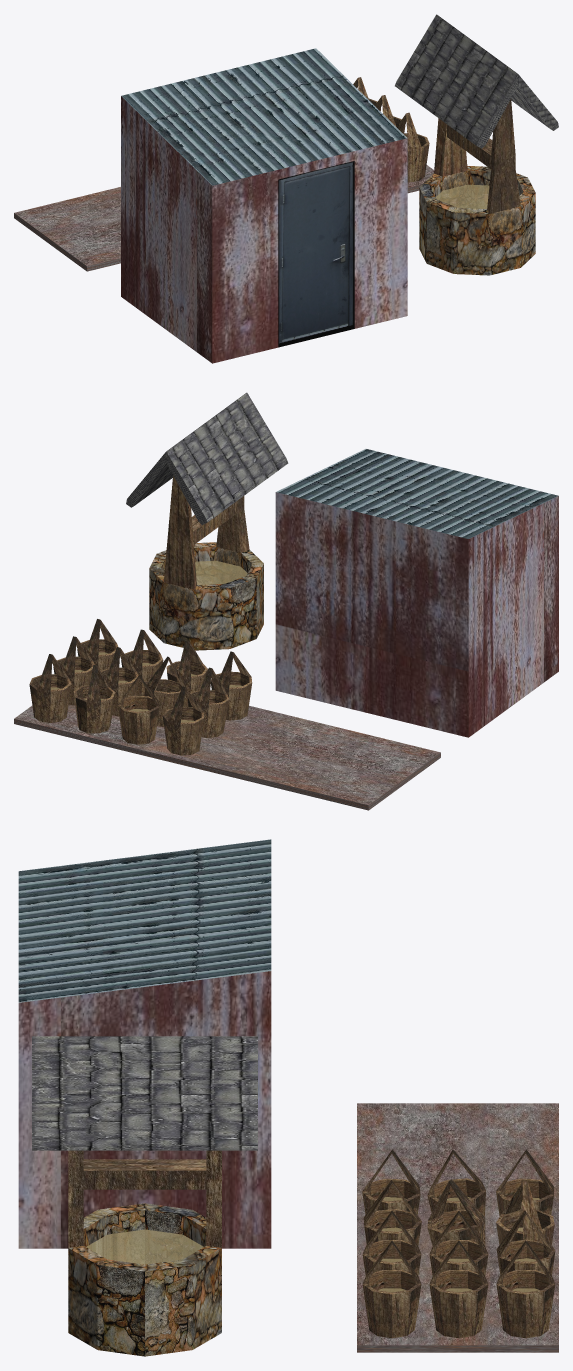
The model's file is WellBuildning 2.fbx.
The picture shows the model from 3 angles, top to bottom: view 1: azimuth 30°, elevation 25°; view 2: azimuth 150°, elevation 25°; view 3: azimuth 270°, elevation 25°; orthographic projection. The views are drawn at different scales.
Parts seen in each view (by area): view 1: polySurface7; view 2: polySurface7; view 3: polySurface7.
Boxes of the visible parts, x1,y1,x2,y2 form: polySurface7: (14, 14, 558, 363); polySurface7: (14, 392, 558, 810); polySurface7: (18, 839, 558, 1356).
Size of the model in its own units: 22.27 by 12.27 by 20.88.
Materials: 11 (10 with a texture image).
